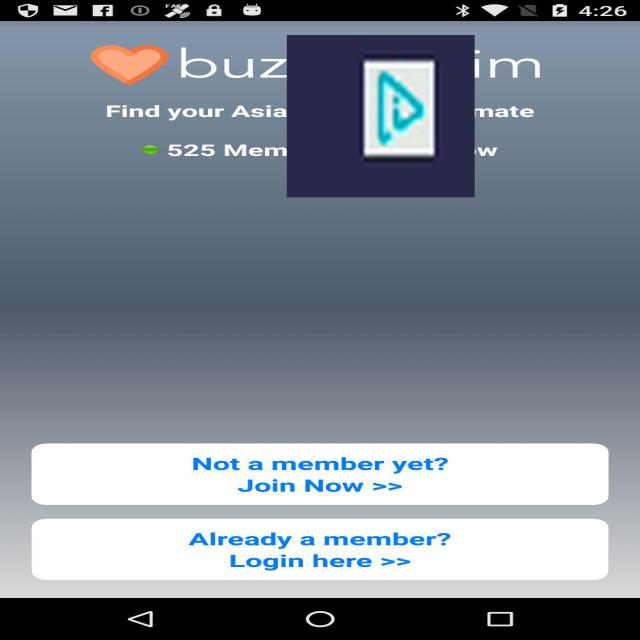sneaking: (286, 35, 474, 197)
